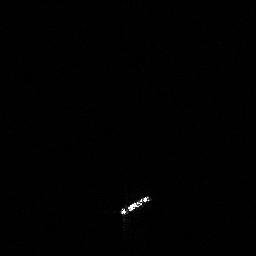ship: (116, 191, 153, 219)
